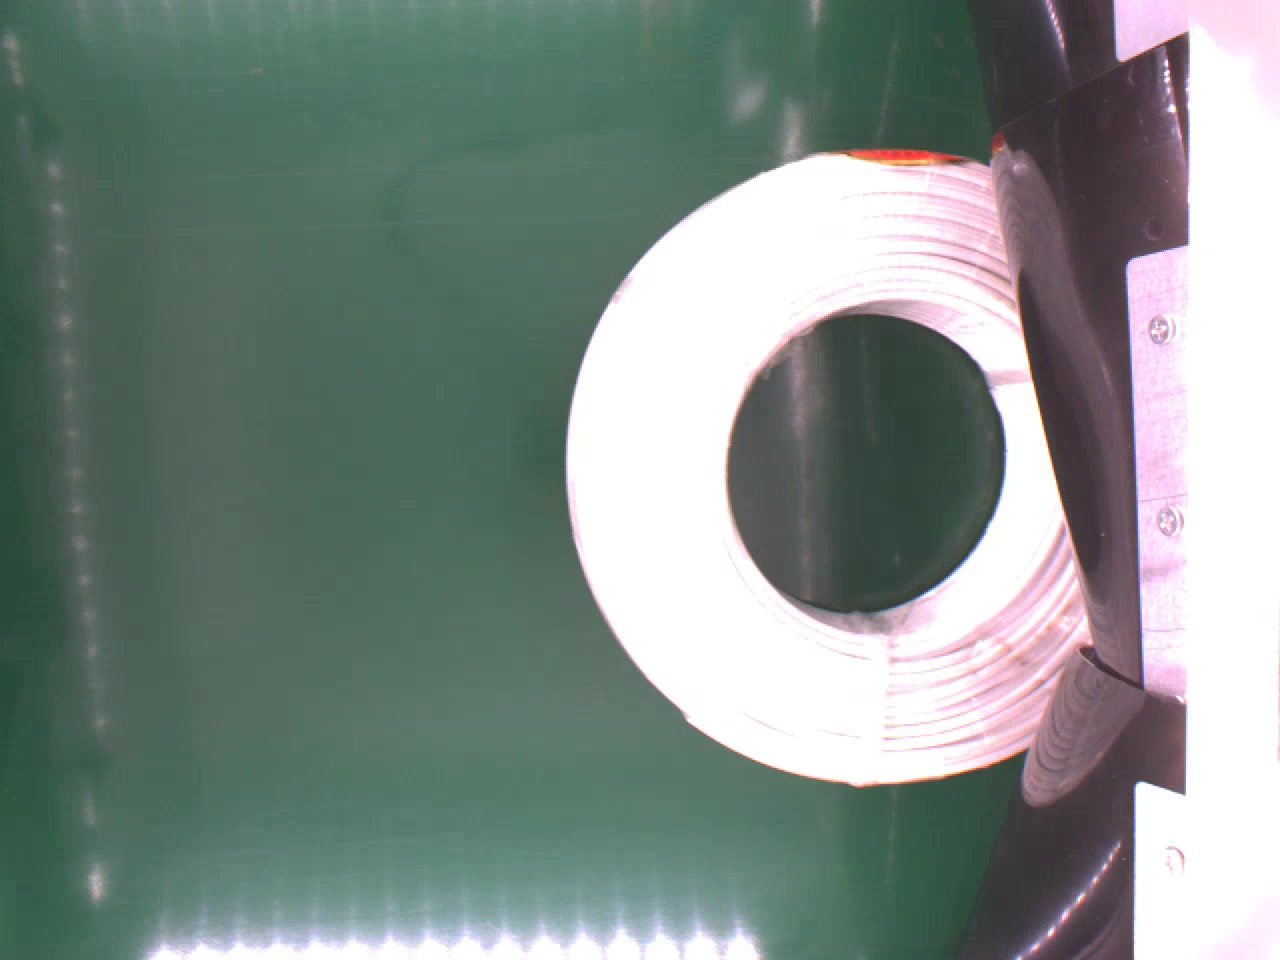white: (564, 147, 1095, 792)
